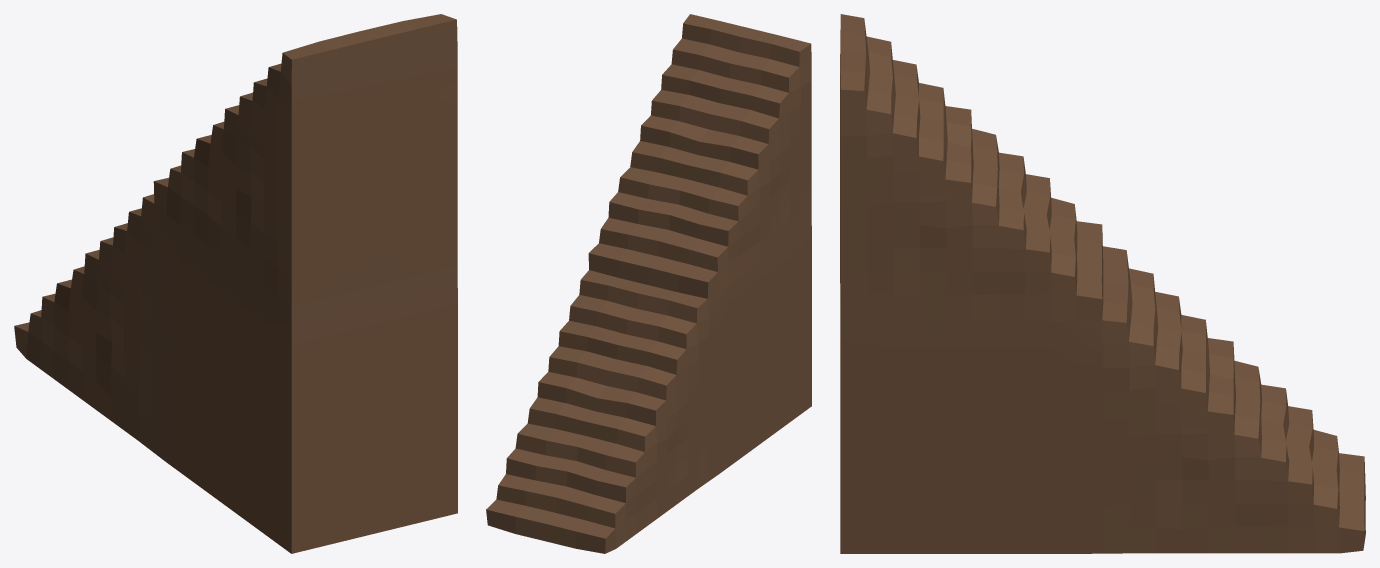
The model's file is Stone_Stairs_Big.fbx.
3 views of the same model, side by side, from view 1: azimuth 30°, elevation 25°; view 2: azimuth 150°, elevation 25°; view 3: azimuth 270°, elevation 25° (orthographic). The views are drawn at different scales.
Parts seen in each view (by area): view 1: Stone_Stairs_Big; view 2: Stone_Stairs_Big; view 3: Stone_Stairs_Big.
Part boxes in pixels (x1=…): Stone_Stairs_Big: x1=14, y1=14, x2=457, y2=553; Stone_Stairs_Big: x1=486, y1=14, x2=811, y2=553; Stone_Stairs_Big: x1=840, y1=14, x2=1365, y2=553.
Bounding box in the file's own units: 203 × 577 × 592.
